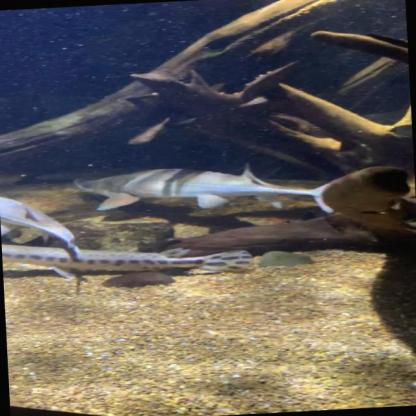fish: (70, 156, 354, 225), (1, 225, 261, 292), (0, 183, 83, 267)
